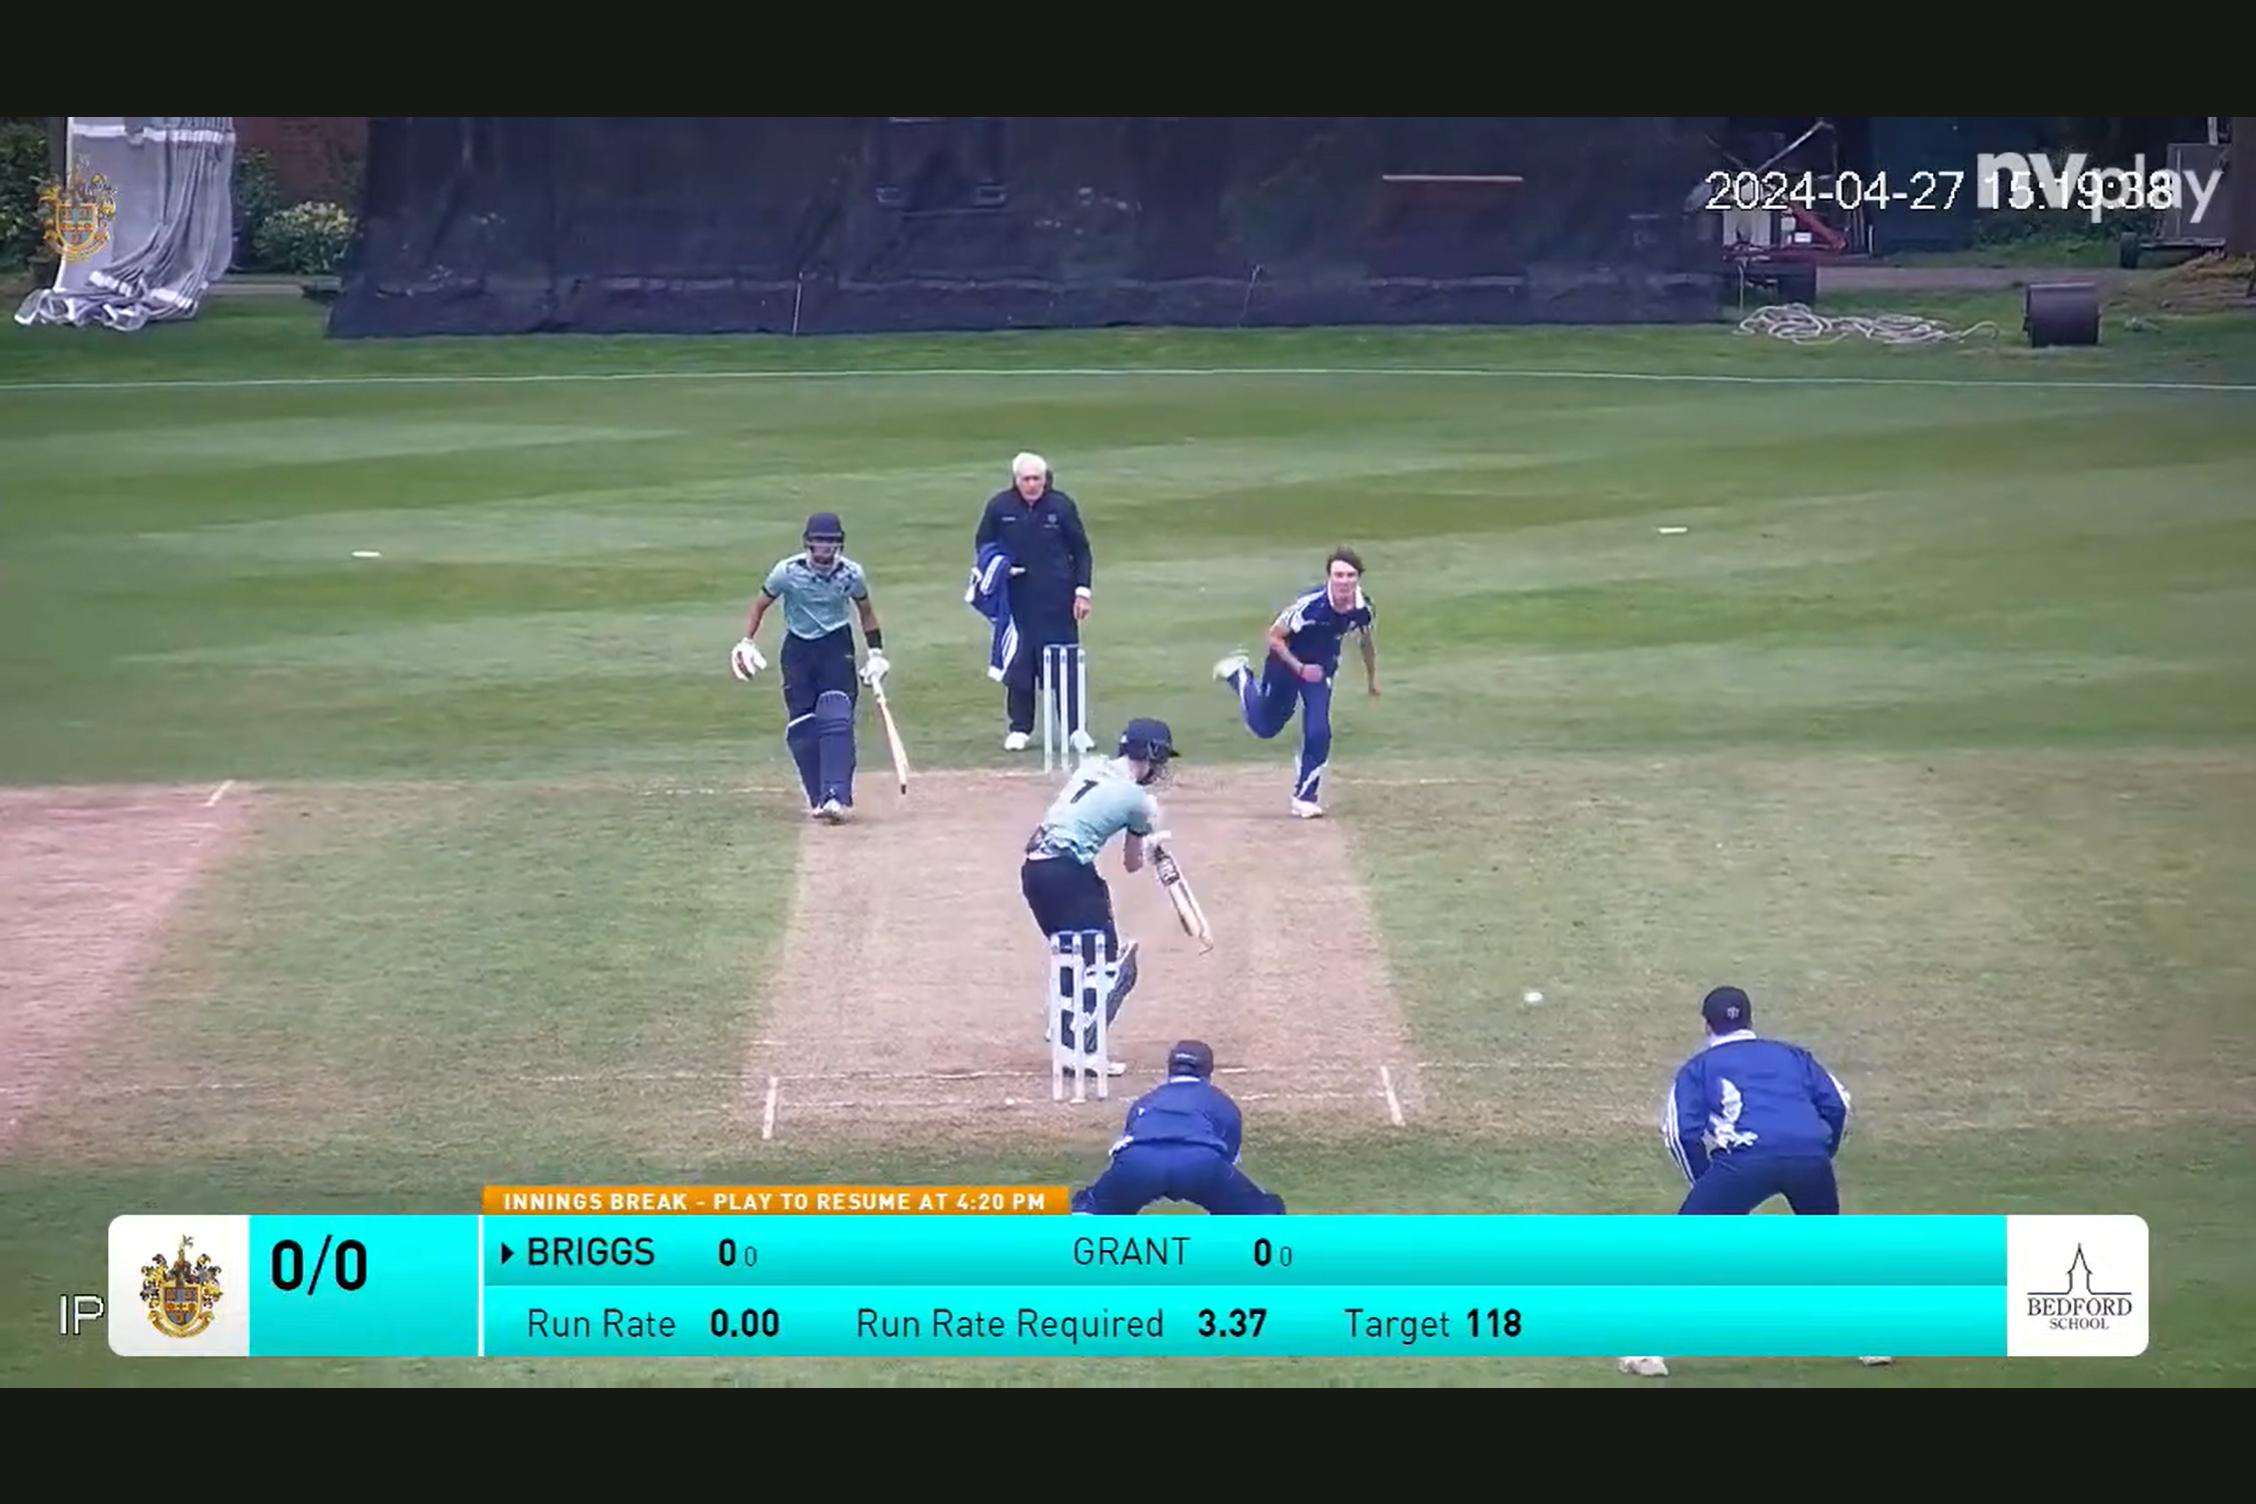batsman: (1027, 688, 1192, 994)
bowler running in: (1215, 524, 1418, 829)
non striker: (707, 482, 915, 846)
umpire: (957, 433, 1118, 727)
wicket keeper: (1069, 1022, 1321, 1210)
